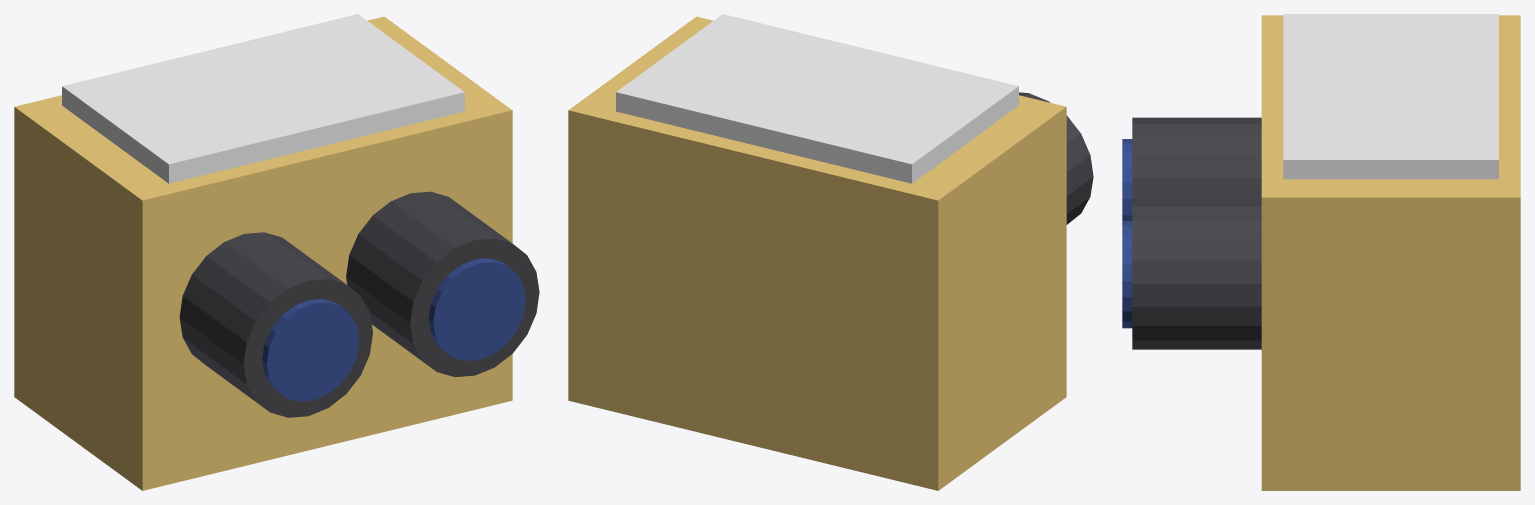
File: ins_ms.fbx
The picture shows the model from 3 angles, left to right: view 1: azimuth 30°, elevation 25°; view 2: azimuth 150°, elevation 25°; view 3: azimuth 270°, elevation 25°; orthographic projection.
Parts seen in each view (by area): view 1: ins_ms; view 2: ins_ms; view 3: ins_ms.
Part boxes in pixels (<box>): ins_ms: <box>14,14,539,490</box>; ins_ms: <box>568,14,1093,490</box>; ins_ms: <box>1122,14,1520,490</box>.
Size of the model in its own units: 0.2 by 0.16 by 0.1845.
